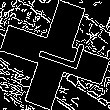L_W: (26, 32, 84, 78)
